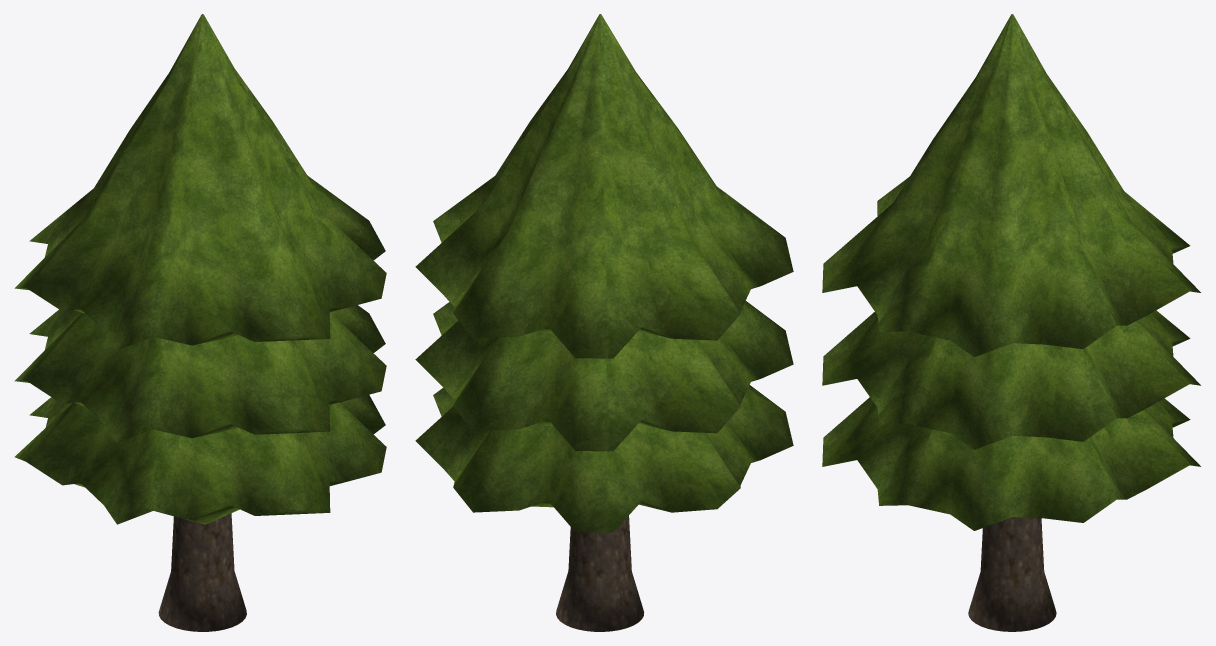
The model's file is FirTreeSummer.glb.
3 views of the same model, side by side, from view 1: azimuth 30°, elevation 25°; view 2: azimuth 150°, elevation 25°; view 3: azimuth 270°, elevation 25° (orthographic).
Parts seen in each view (by area): view 1: FirTreeTexturedSummer; view 2: FirTreeTexturedSummer; view 3: FirTreeTexturedSummer.
Part boxes in pixels (box(x1,y1,x2,y2)): FirTreeTexturedSummer: box(14, 14, 386, 631); FirTreeTexturedSummer: box(415, 14, 793, 631); FirTreeTexturedSummer: box(822, 14, 1200, 631).
Size of the model in its own units: 2.59 by 4.56 by 2.62.
2 materials, 2 textured.
